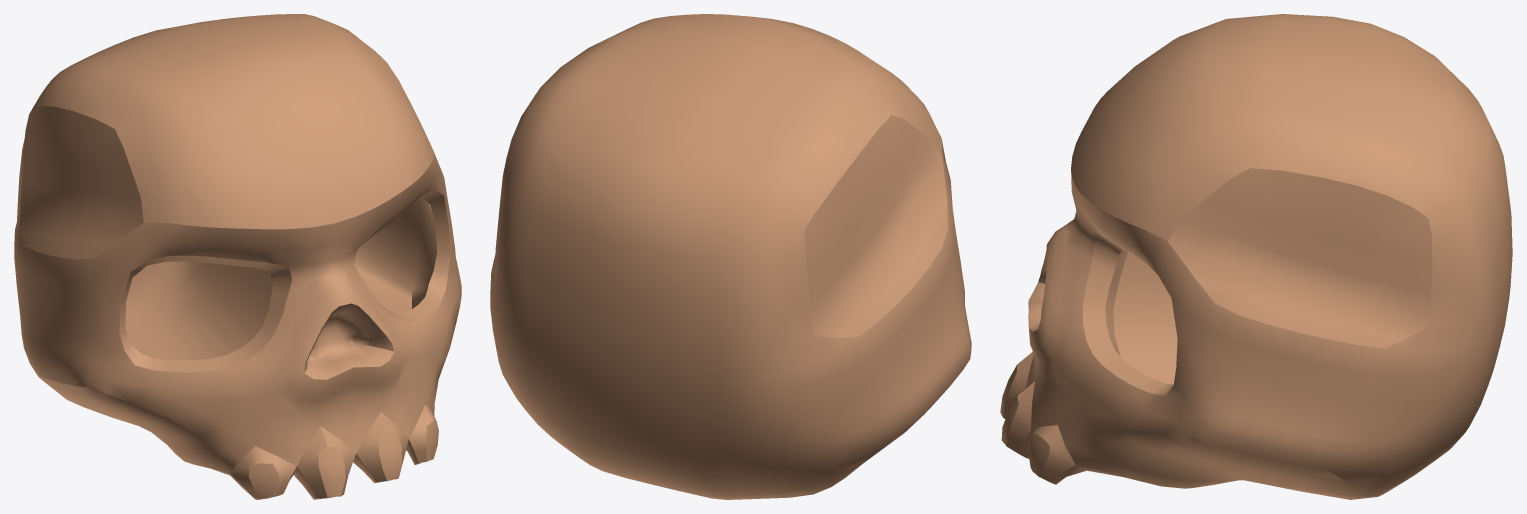
File: Skull.glb
3 views of the same model, side by side, from view 1: azimuth 30°, elevation 25°; view 2: azimuth 150°, elevation 25°; view 3: azimuth 270°, elevation 25° (orthographic). The views are drawn at different scales.
Visible parts, largest first — view 1: Environment_Skulls; view 2: Environment_Skulls; view 3: Environment_Skulls.
Boxes of the visible parts, left/top/right/bottom form: Environment_Skulls: left=14, top=14, right=461, bottom=499; Environment_Skulls: left=490, top=14, right=971, bottom=499; Environment_Skulls: left=1000, top=14, right=1512, bottom=499.
Bounding box in the file's own units: 1.53 × 1.41 × 1.64.
Materials: 1 (1 with a texture image).
